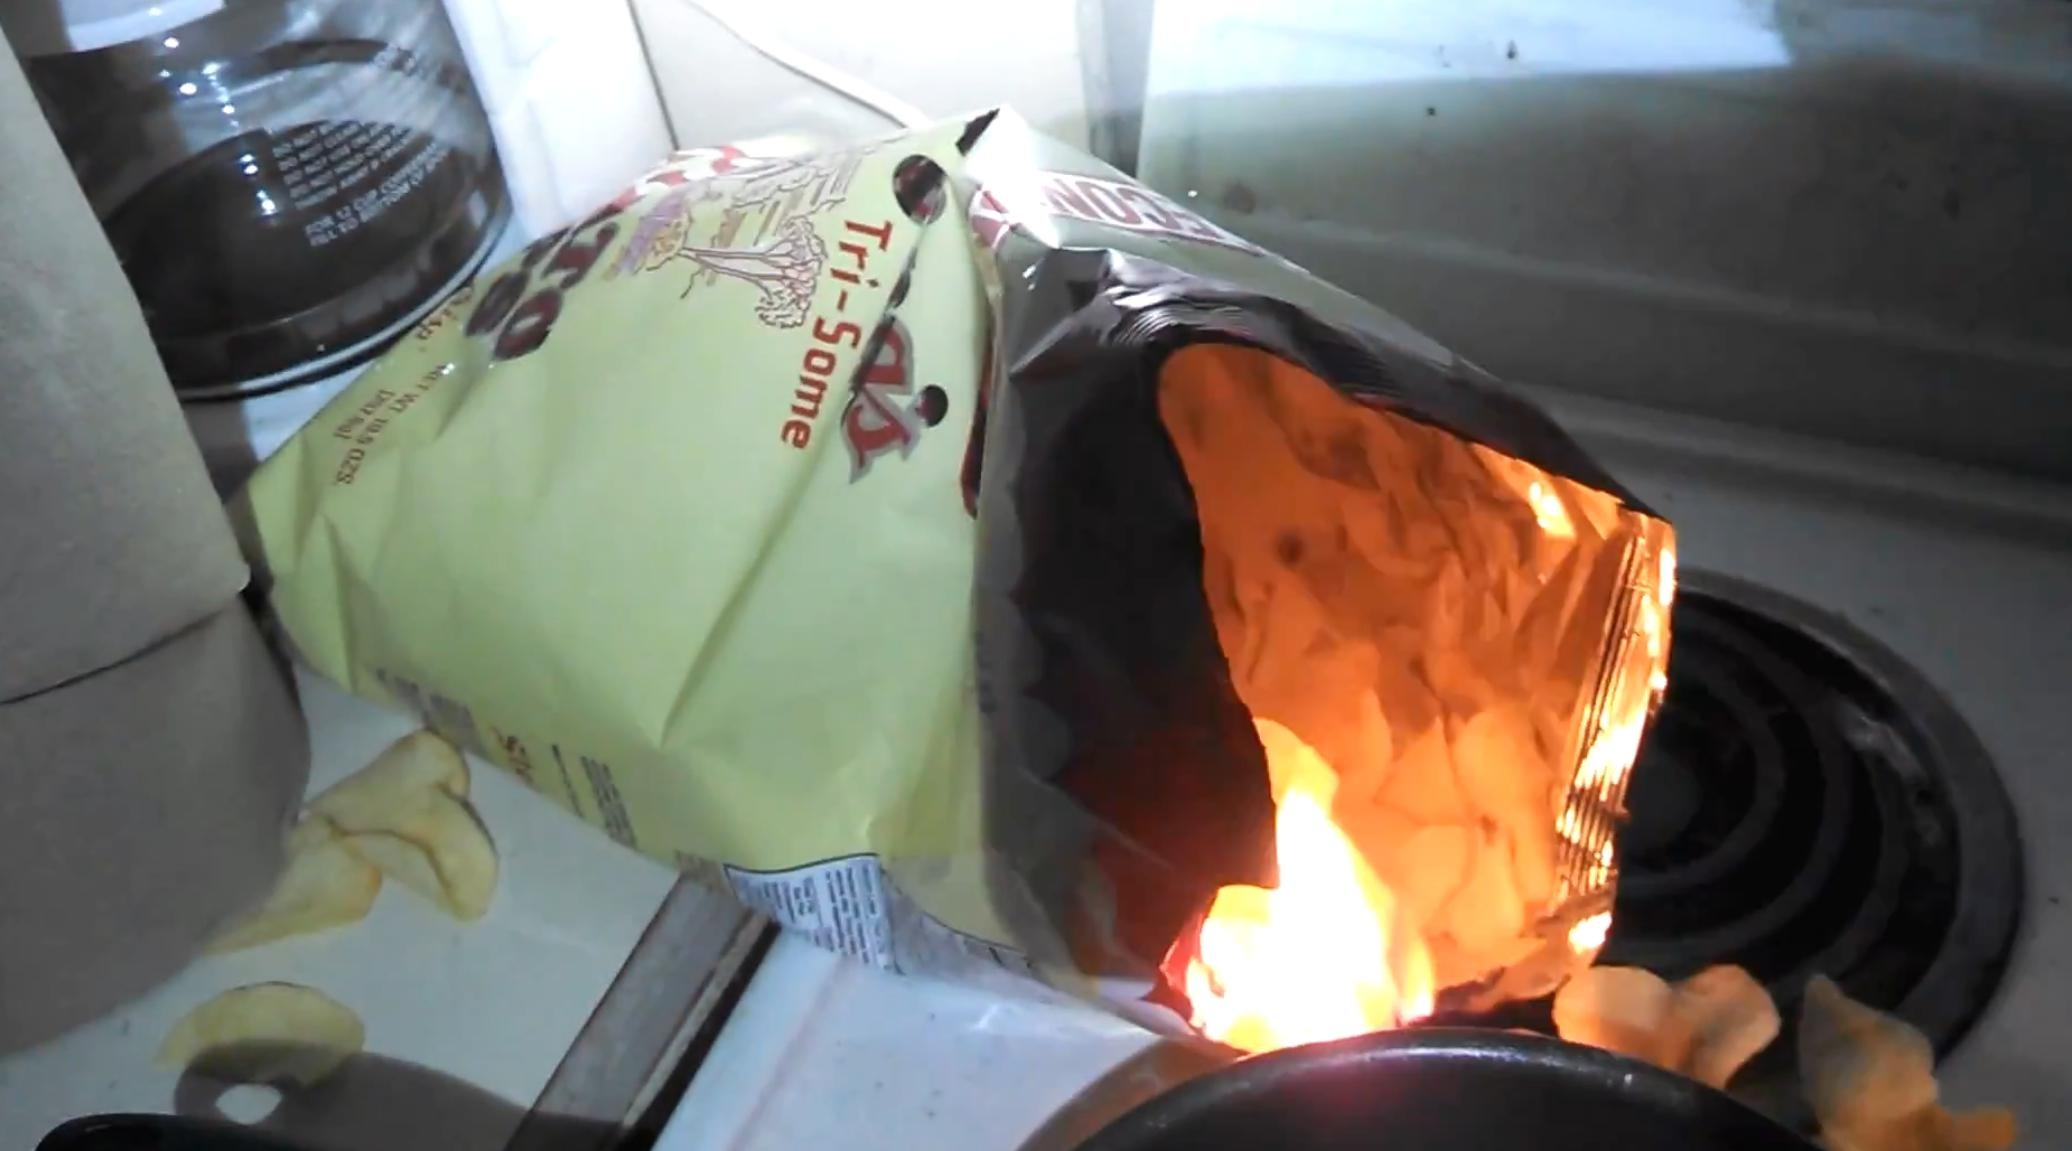fire: (1179, 716, 1433, 1048)
